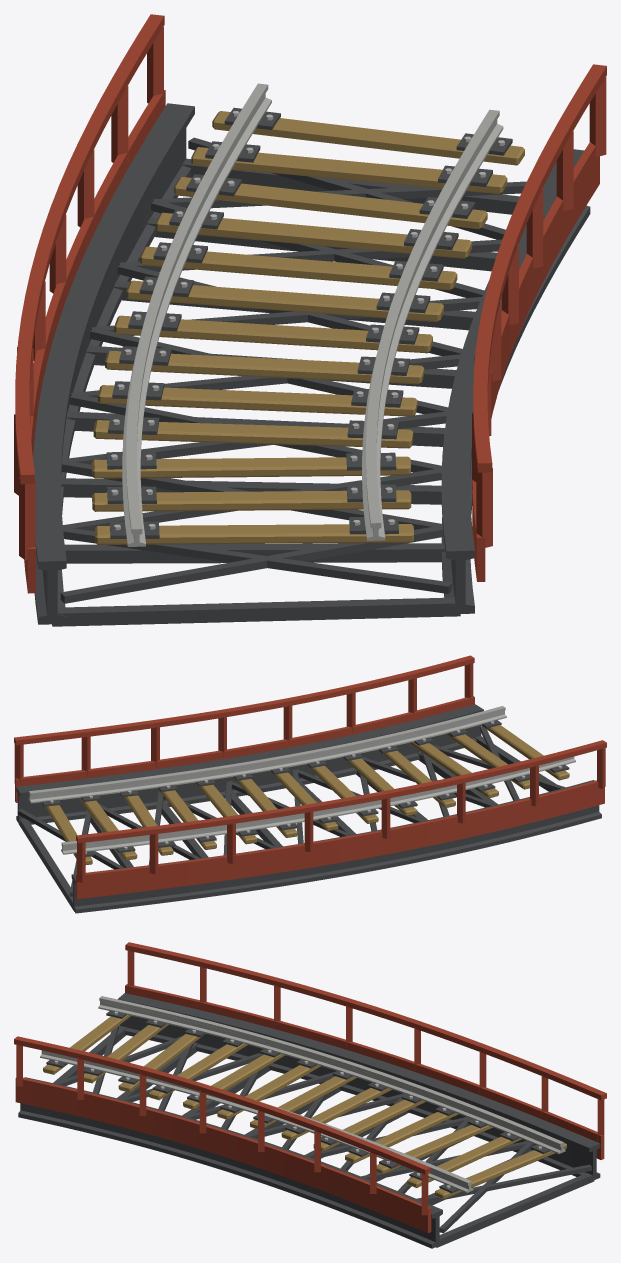
Rendered from elevated-curved-rail-b-ne.glb.
3 renders of one model, top to bottom at view 1: azimuth 30°, elevation 25°; view 2: azimuth 150°, elevation 25°; view 3: azimuth 270°, elevation 25°, orthographic. The views are drawn at different scales.
Parts seen in each view (by area): view 1: body; view 2: body; view 3: body.
Boxes of the visible parts, x1,y1,x2,y2 form: body: [14, 14, 606, 626]; body: [14, 655, 606, 913]; body: [14, 942, 606, 1248].
Size of the model in its own units: 4.85 by 0.825 by 5.33.
